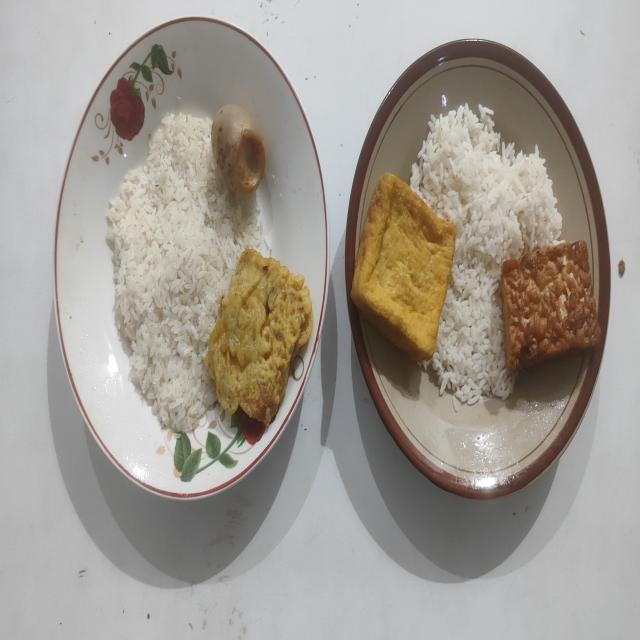nasi_putih: (106, 112, 264, 432), (409, 103, 562, 404)
tahu_goreng: (350, 173, 456, 361)
tempe_goreng: (500, 240, 600, 370)
